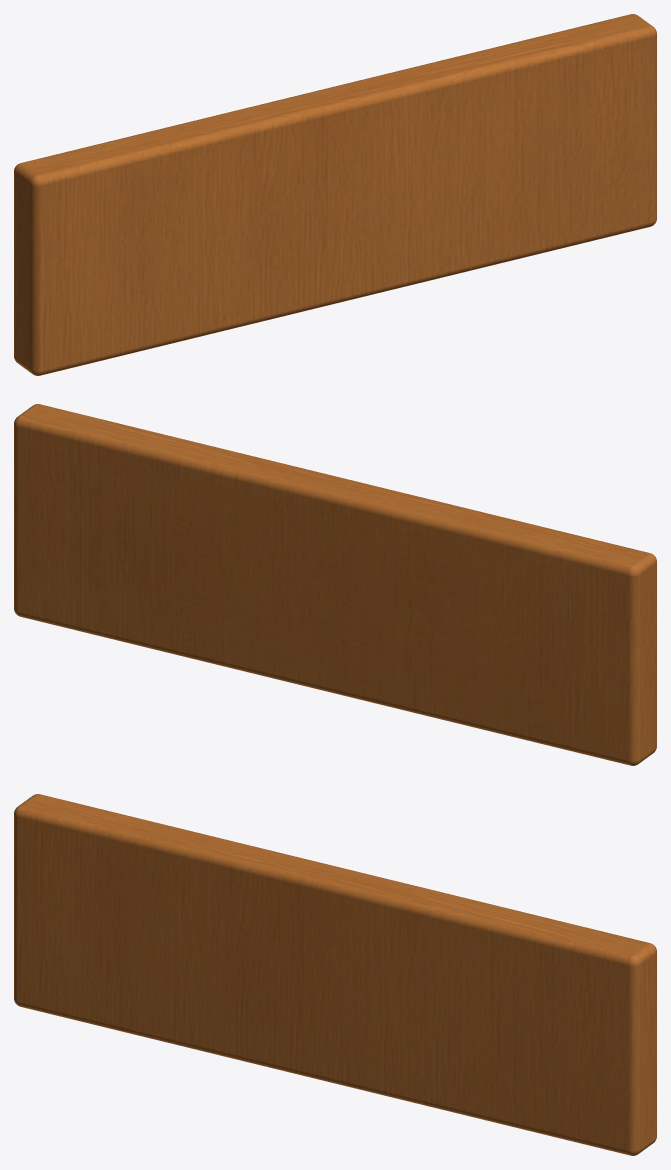
Rendered from back_pad__pad_shell.glb.
The picture shows the model from 3 angles, top to bottom: view 1: azimuth 30°, elevation 25°; view 2: azimuth 150°, elevation 25°; view 3: azimuth 330°, elevation 25°; orthographic projection.
Parts seen in each view (by area): view 1: geometry_0; view 2: geometry_0; view 3: geometry_0.
Boxes of the visible parts, x1,y1,x2,y2 form: geometry_0: (14, 14, 656, 375); geometry_0: (14, 404, 656, 765); geometry_0: (14, 794, 656, 1155).
Size of the model in its own units: 0.98 by 0.3 by 0.065.
1 material, 1 textured.
